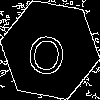O: (25, 25, 69, 77)
